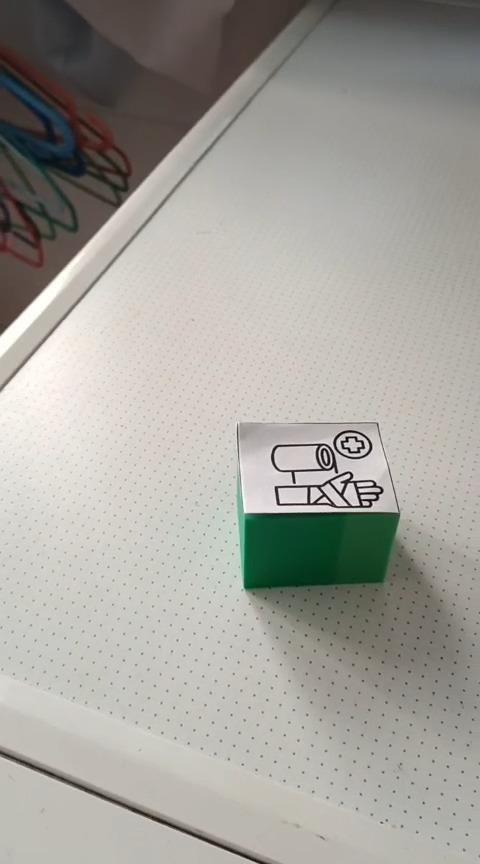Bandages: (235, 421, 400, 587)
